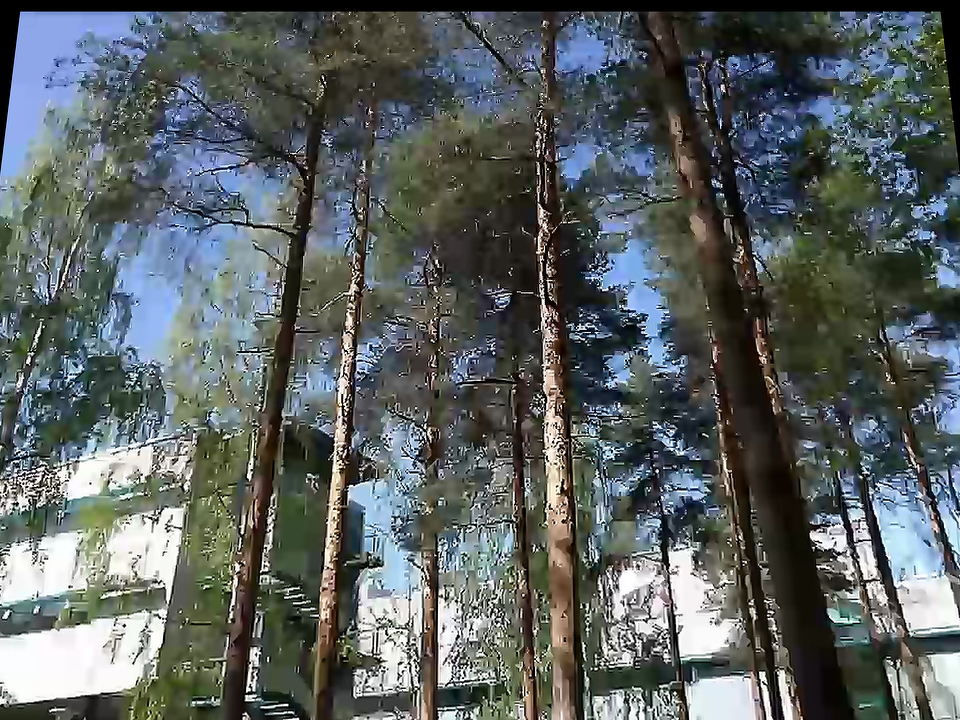branch: (607, 187, 678, 219), (302, 282, 346, 321), (472, 146, 536, 168), (454, 512, 513, 533), (250, 239, 286, 273), (251, 216, 289, 240), (515, 285, 546, 303), (296, 322, 324, 339)
trunk: (532, 30, 589, 716), (415, 256, 444, 717), (712, 331, 800, 478), (770, 574, 858, 716), (740, 463, 824, 596), (682, 217, 760, 349), (259, 239, 309, 406), (242, 373, 287, 529), (227, 496, 274, 624), (287, 114, 321, 271), (311, 586, 335, 717), (225, 566, 249, 663), (218, 637, 244, 719), (324, 446, 346, 535), (331, 368, 351, 461), (317, 521, 338, 596)
